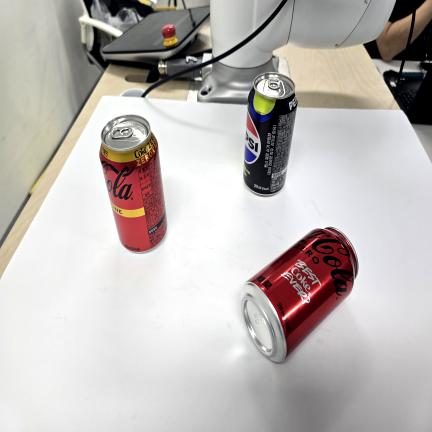can_coke_decaf: (99, 114, 169, 255)
can_coke_zero: (237, 223, 361, 365)
can_pepsi_zero: (241, 70, 300, 198)
